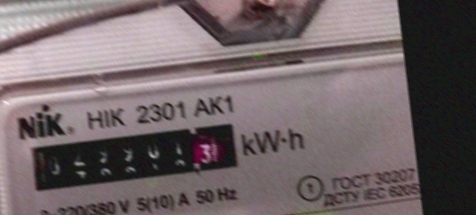0: (143, 132, 160, 158), (44, 150, 62, 173)
1: (168, 130, 184, 154)
2: (68, 145, 86, 165)
3: (196, 138, 212, 161)
9: (118, 137, 135, 160), (94, 140, 108, 163)
screen: (15, 109, 248, 199)
